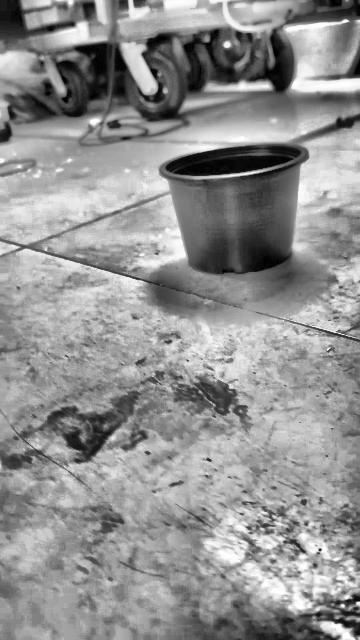pot: (159, 143, 308, 274)
